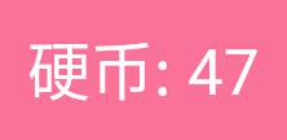TextView: (1, 1, 286, 139)
